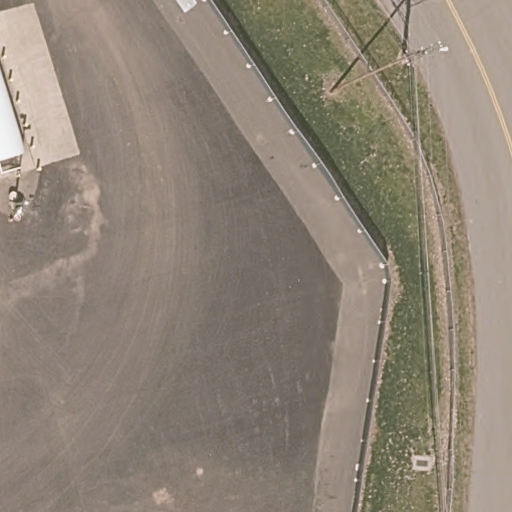DT: (325, 40, 448, 93)
